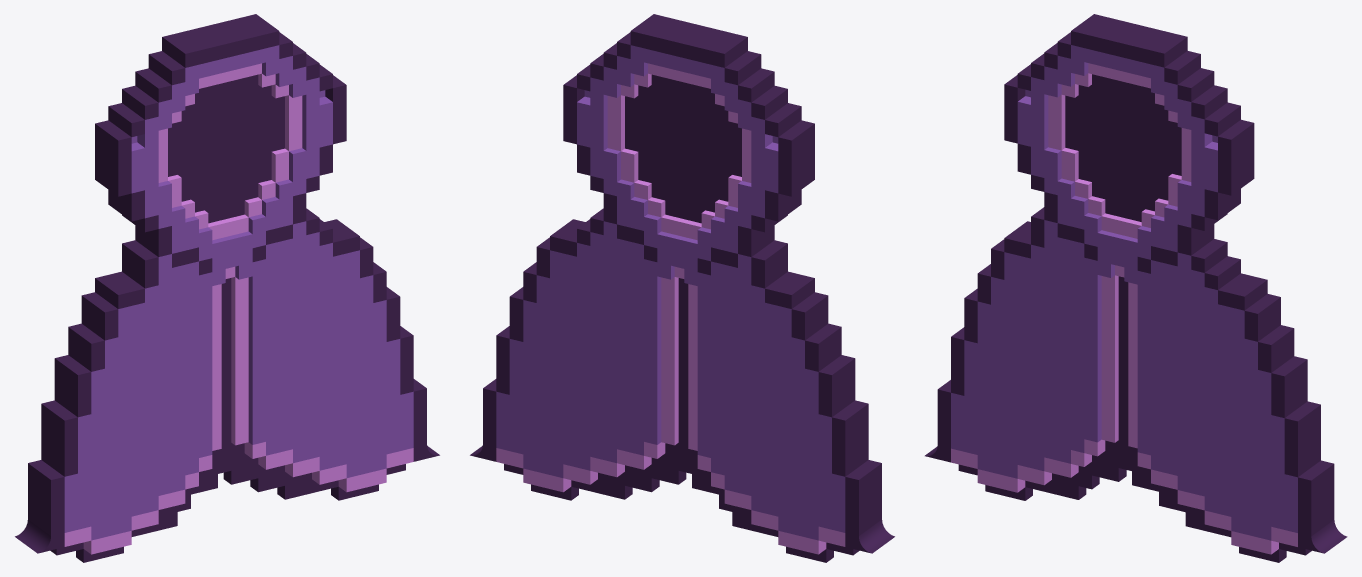
File: Cloak.fbx
The picture shows the model from 3 angles, left to right: view 1: azimuth 30°, elevation 25°; view 2: azimuth 150°, elevation 25°; view 3: azimuth 330°, elevation 25°; orthographic projection.
Parts seen in each view (by area): view 1: shape0 (×32), shape3; view 2: shape0 (×32), shape3; view 3: shape0 (×31), shape3.
Boxes of the visible parts, bbox=[...] form: shape0 (×32): bbox=[28, 17, 265, 536]; shape3: bbox=[15, 519, 50, 553]; shape0 (×32): bbox=[644, 17, 881, 536]; shape3: bbox=[859, 519, 894, 553]; shape0 (×31): bbox=[1071, 14, 1334, 536]; shape3: bbox=[1311, 520, 1347, 553].
Bounding box in the file's own units: 150 × 175 × 15.
